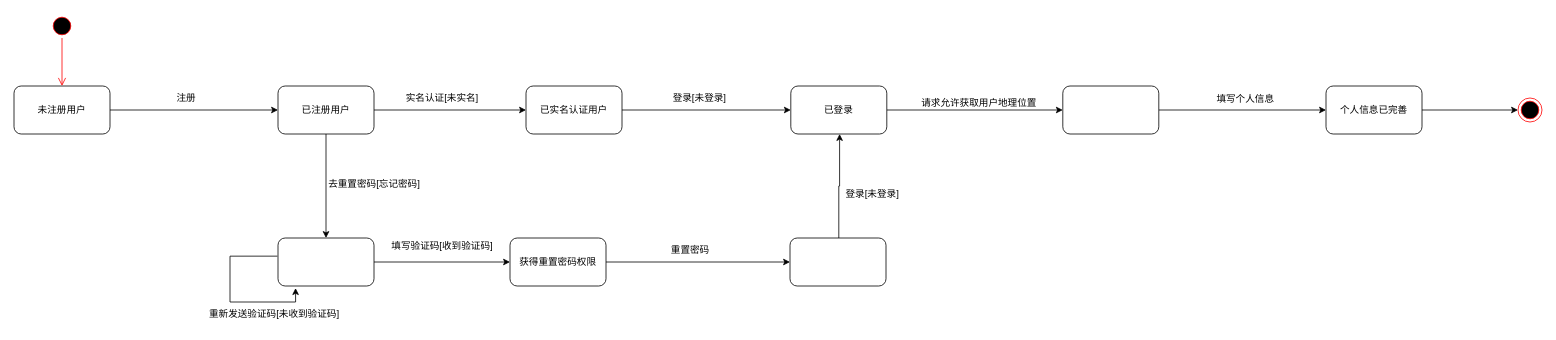
The diagram is 1556 pixels wide and 340 high, and some of its shapes have lost their labels. The shapes that lost their labels are listed below. From the top down, each one's centre as x and y in pixels, then its label:
the point at 1110,109: 已定位用户
the point at 325,261: 等待接验证码
the point at 837,261: 密码重置成功
